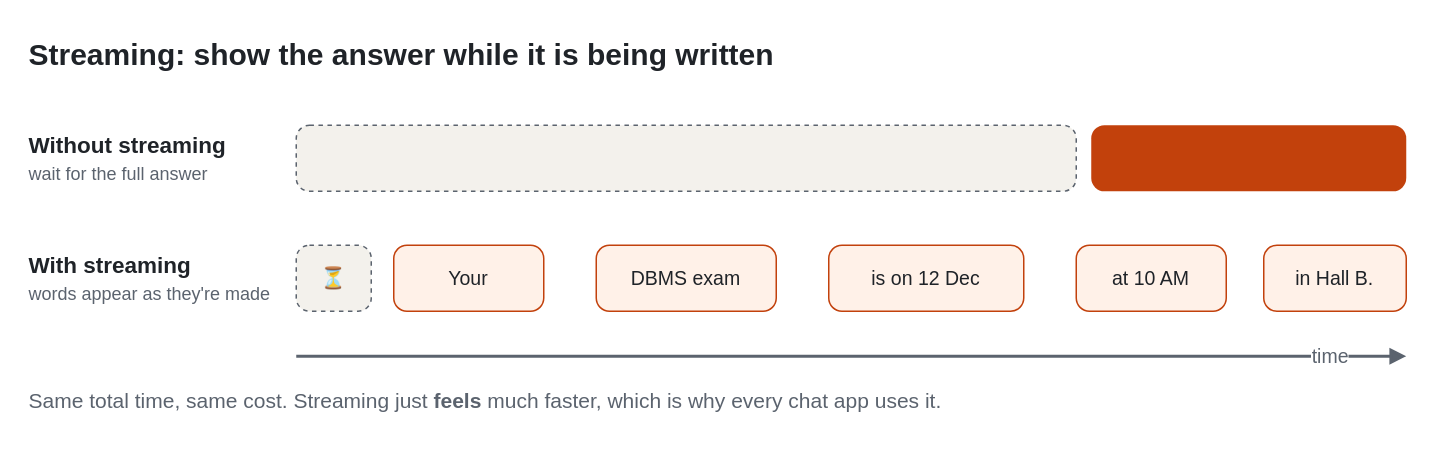
This 1445x449 diagram has some shape labels left out. Here are the shapes that lost their labels. From the top down, the centre of each, then its label:
[685,157]: ⏳ waiting... (blank screen)
[1248,157]: Your DBMS exam is on 12 Dec at 10 AM in Hall B.
